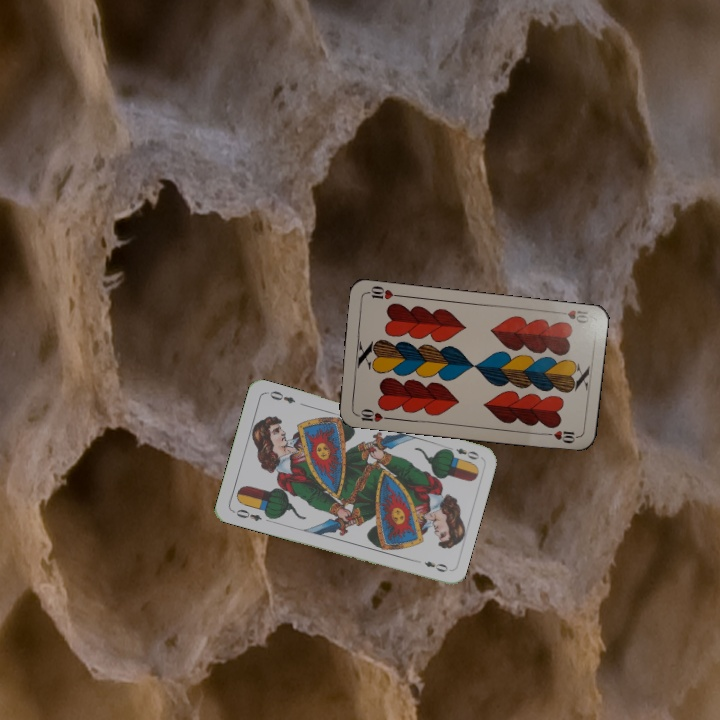EO: (442, 442, 482, 462), (229, 505, 264, 524)
H10: (351, 405, 392, 425), (552, 306, 591, 326)
